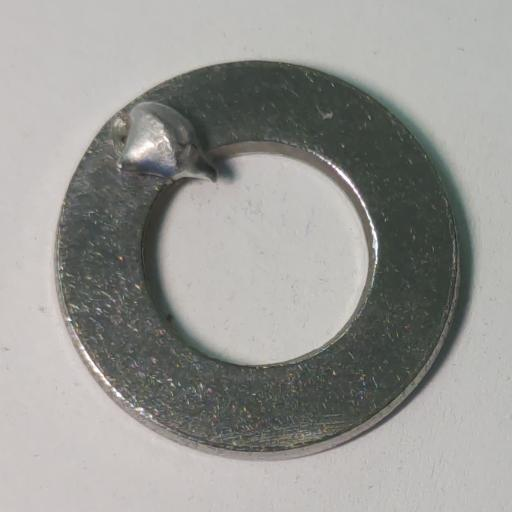excess_material: (117, 103, 219, 184)
